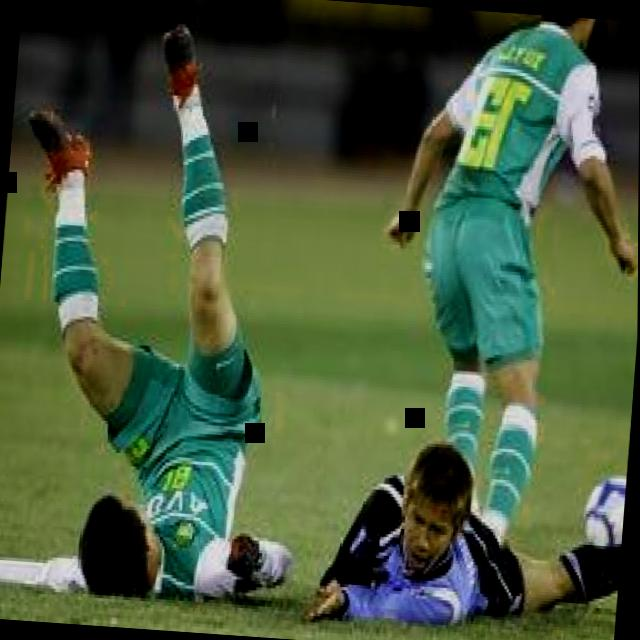Fall-Detected: (3, 0, 351, 612)
